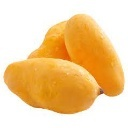mango: (64, 13, 125, 97)
